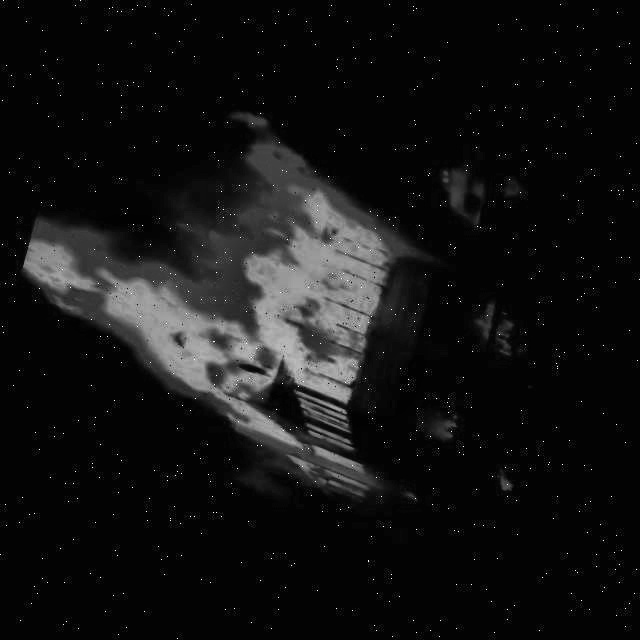Fire: (4, 69, 426, 477), (459, 286, 534, 357), (474, 453, 523, 497), (419, 395, 465, 440), (423, 154, 464, 197)
